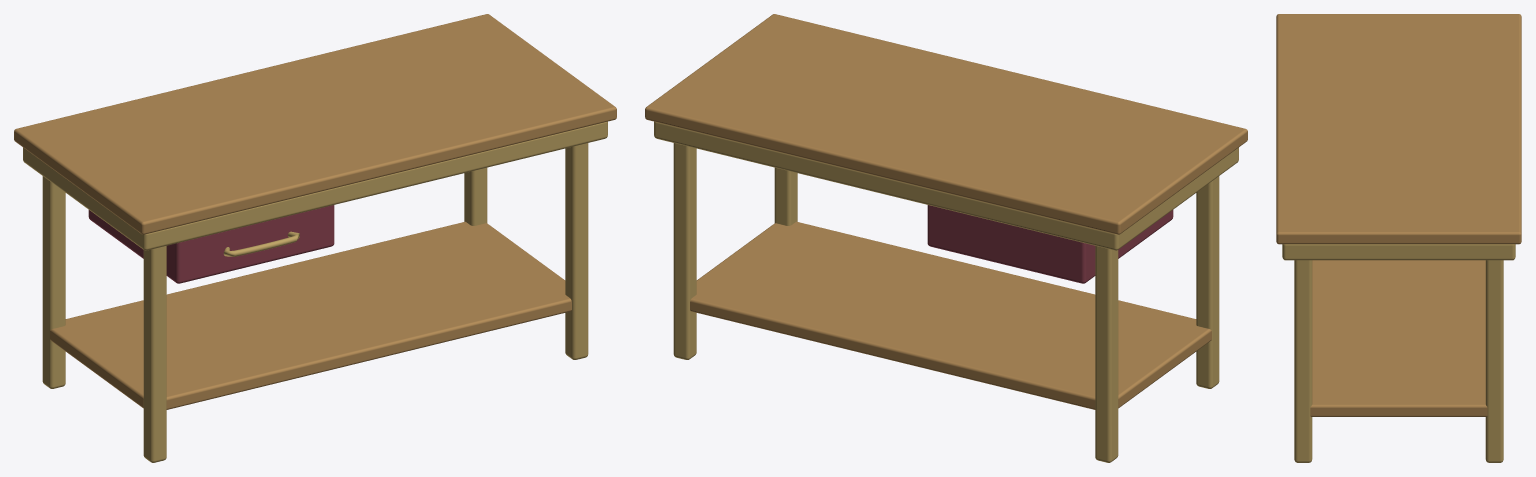
The model's file is abandoned-puppet-theatre-and-prop-vault-puppet-repair--5c36feb1__31089.glb.
3 views of the same model, side by side, from view 1: azimuth 30°, elevation 25°; view 2: azimuth 150°, elevation 25°; view 3: azimuth 270°, elevation 25° (orthographic). The views are drawn at different scales.
Visible parts, largest first — view 1: puppet-repair-bench; view 2: puppet-repair-bench; view 3: puppet-repair-bench.
Part boxes in pixels (x1,y1,x2,y2): puppet-repair-bench: [14, 14, 616, 462]; puppet-repair-bench: [645, 14, 1247, 462]; puppet-repair-bench: [1276, 14, 1521, 462].
Size of the model in its own units: 1.74 by 0.885 by 0.82.
